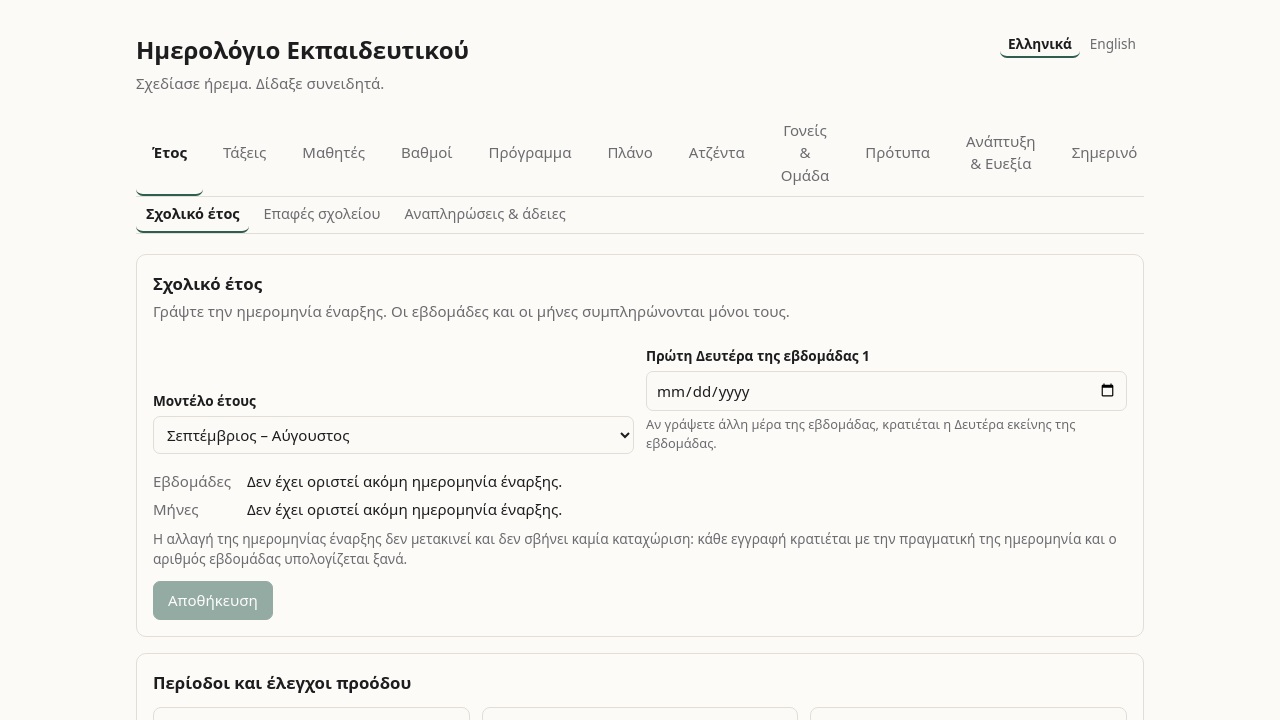
Test: the app shell › files the substitute folder under Τάξεις and the print forms on their own
Expected: the heading "Σχολικό έτος" is shown, [153,272,262,295]
Step 1. Click the button "Τάξεις" → (245, 153), box [207,110,282,196]
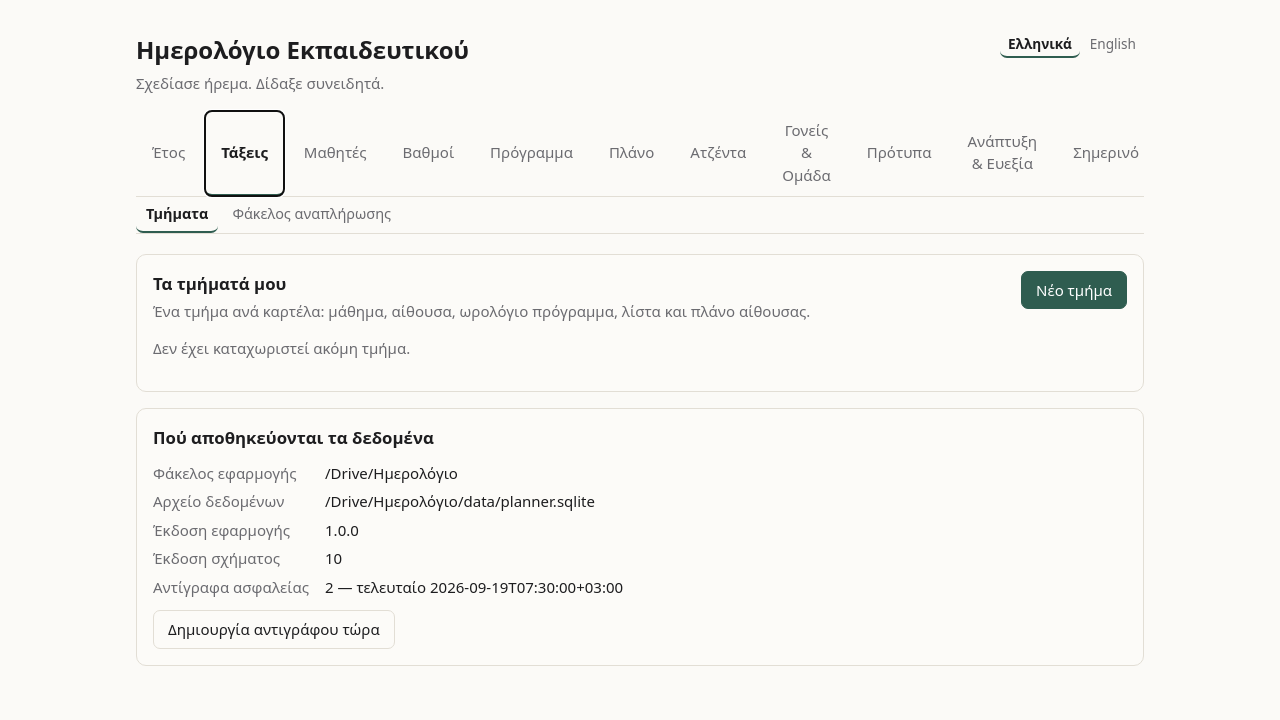
Expected: the heading "Τα τμήματά μου" is shown, [153,272,286,295]
Expected: the buttons read "Τμήματα", "Φάκελος αναπλήρωσης", in this order
Step 2. Click the button "Φάκελος αναπλήρωσης" → (312, 215), box [222,197,401,233]
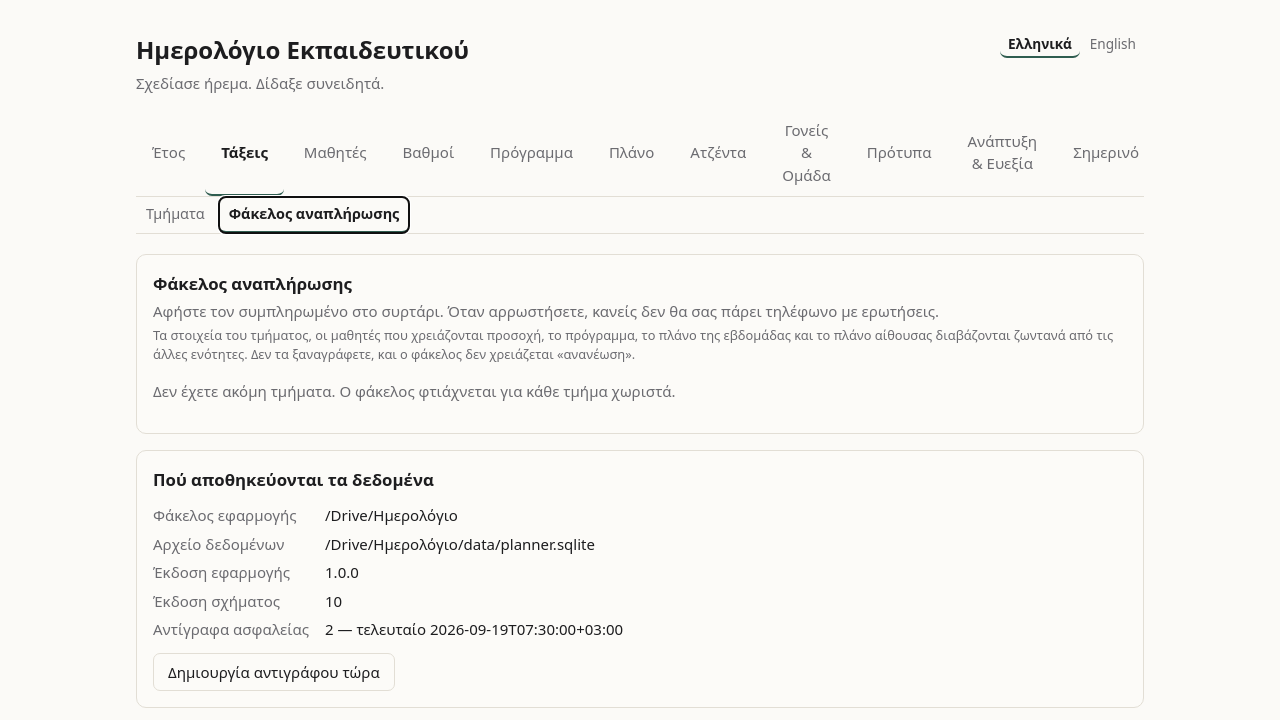
Expected: the heading "Φάκελος αναπλήρωσης" is shown, [153,272,352,295]
Step 3. Click the button "Πρότυπα" → (899, 153), box [851,110,947,196]
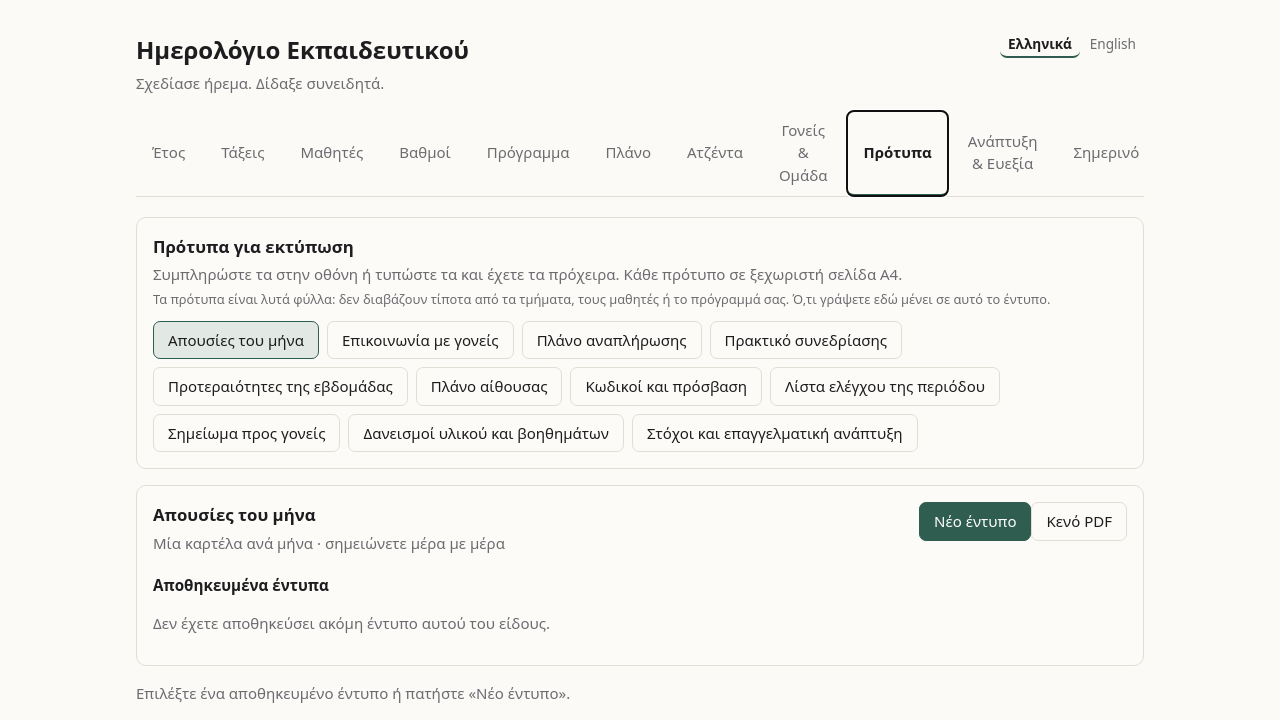
Expected: the number of navigation bars is 1, [136,110,1144,197]
Expected: the heading "Πρότυπα για εκτύπωση" is shown, [153,235,354,258]
